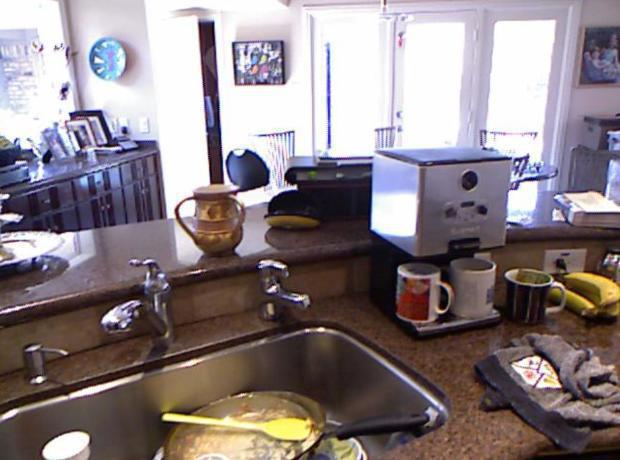Lavaplatos: (8, 250, 458, 454)
